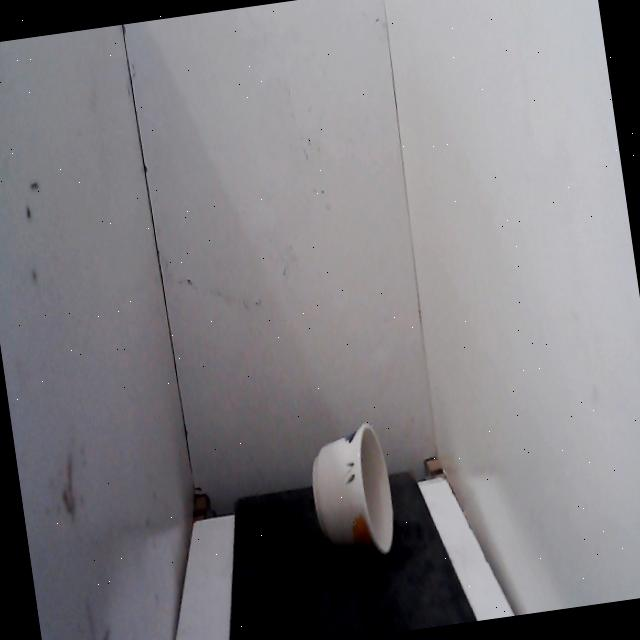vidro: (294, 410, 409, 578)
